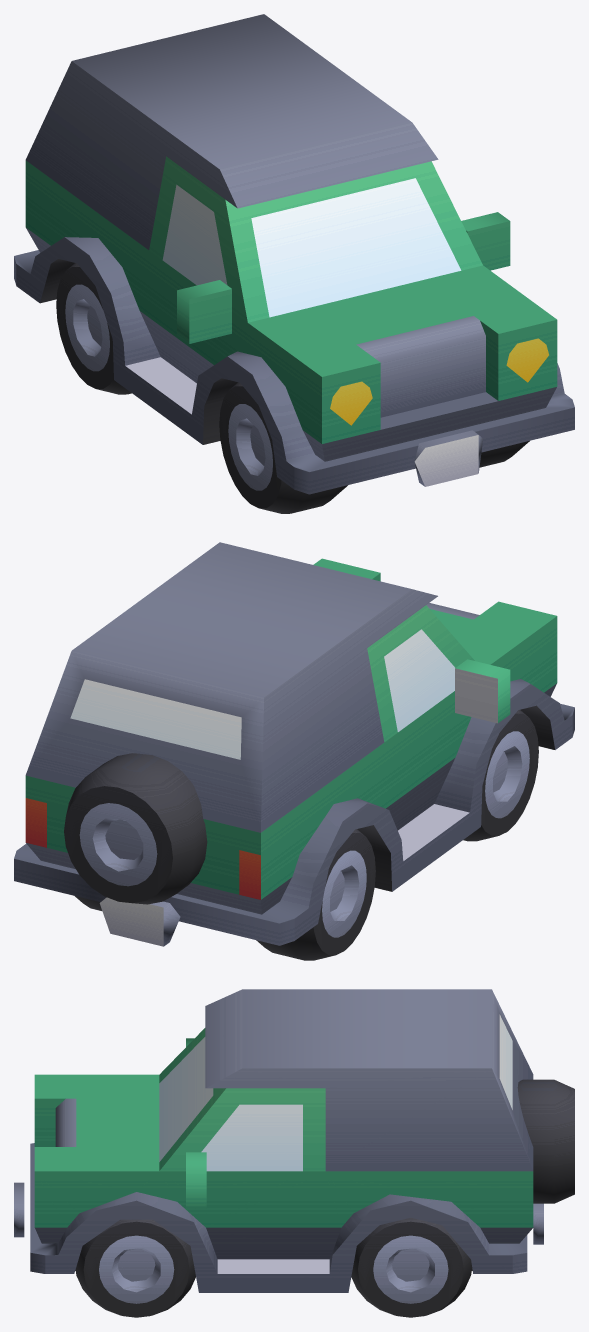
File: suv.lod1.glb
3 renders of one model, top to bottom at view 1: azimuth 30°, elevation 25°; view 2: azimuth 150°, elevation 25°; view 3: azimuth 270°, elevation 25°, orthographic. The views are drawn at different scales.
Visible parts, largest first — view 1: body, wheel-front-right, wheel-back-right; view 2: body, wheel-back, wheel-back-right, wheel-front-right; view 3: body, wheel-back-left, wheel-front-left, wheel-back.
Boxes of the visible parts, x1,y1,x2,y2 form: body: (14,14,574,494); wheel-front-right: (219,382,347,513); wheel-back-right: (56,263,131,394); body: (14,542,574,946); wheel-back: (64,753,207,904); wheel-back-right: (256,829,375,960); wheel-front-right: (463,710,538,841); body: (14,989,543,1292); wheel-back-left: (351,1217,472,1317); wheel-front-left: (75,1219,195,1317); wheel-back: (517,1079,574,1203).
Bounding box in the file's own units: 1.5 × 1.3 × 2.7.
Materials: 1 (1 with a texture image).
